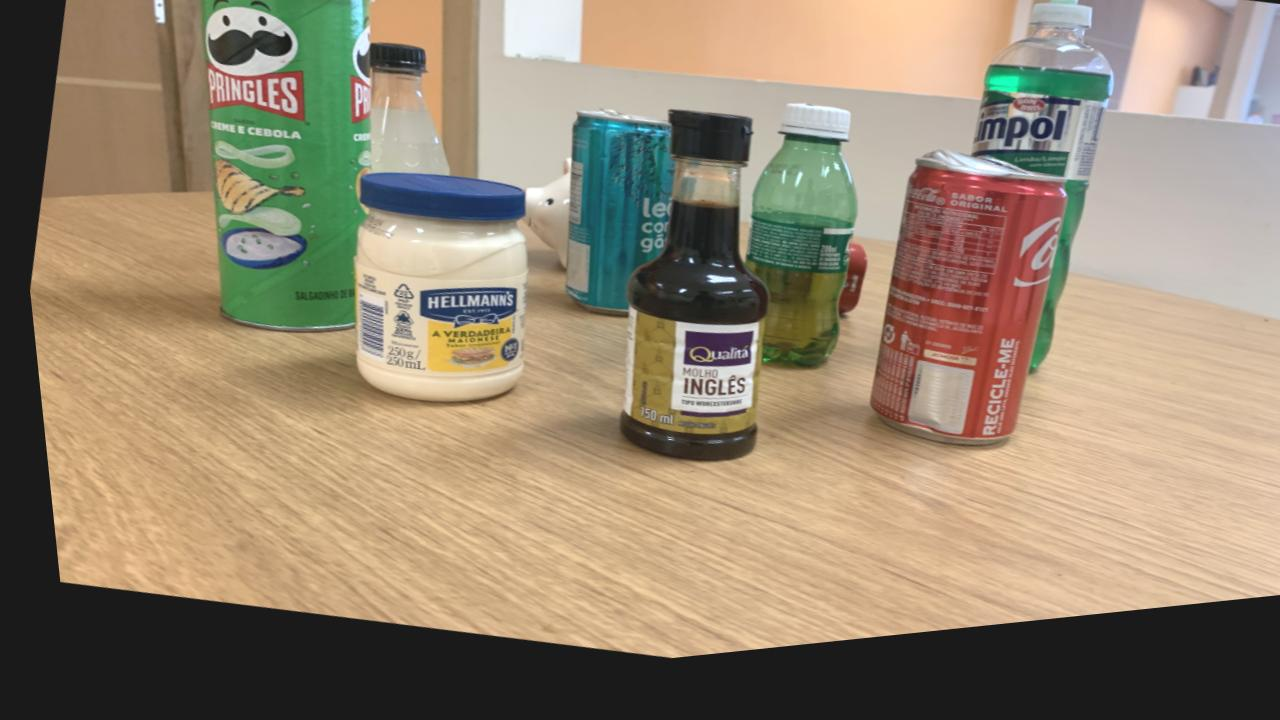Coke-Drinks: (858, 170, 1058, 465)
Detergent-Cleanup_Items: (968, 7, 1110, 390)
English_Sauce-Pantry_Items: (609, 123, 760, 474)
Guarana-Drinks: (739, 120, 851, 382)
Mayonnaise-Pantry_Items: (347, 179, 521, 410)
Pig_Safe-Miscellaneous: (518, 170, 567, 278)
Pringles-Snacks: (199, 0, 372, 337)
Soda-Drinks: (364, 50, 445, 185)
Tea-Drinks: (557, 122, 668, 327)
Tuna_Can-Pantry_Items: (829, 261, 859, 330)
